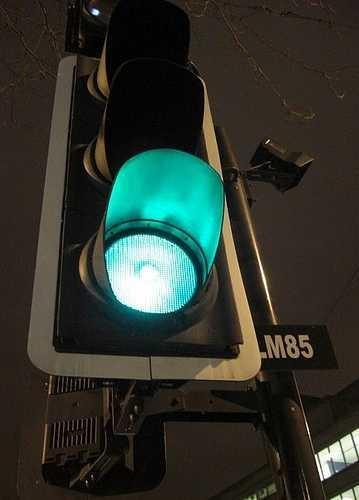2: (87, 3, 218, 334)
red traffic light: (82, 197, 216, 331)
